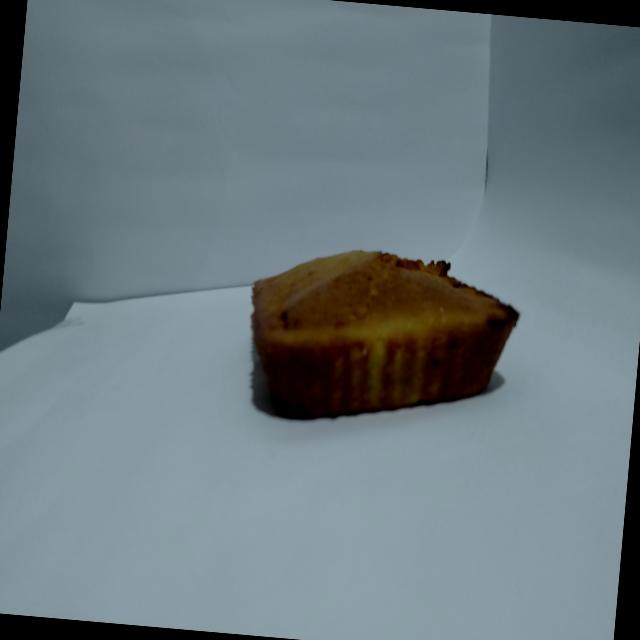Sopa: (236, 224, 527, 446)
